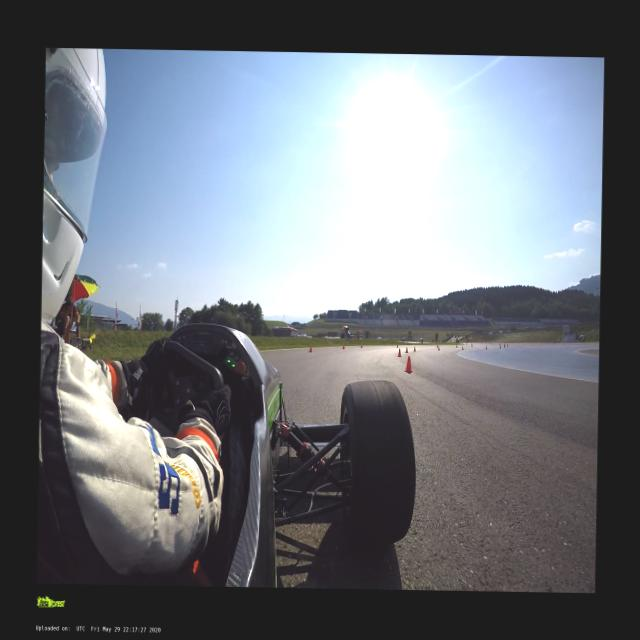orange_cone: (404, 356, 412, 372), (397, 348, 401, 356), (308, 344, 312, 352), (405, 346, 408, 352), (360, 342, 362, 348), (396, 342, 398, 348), (413, 346, 415, 350), (438, 346, 440, 350), (342, 344, 344, 348)
